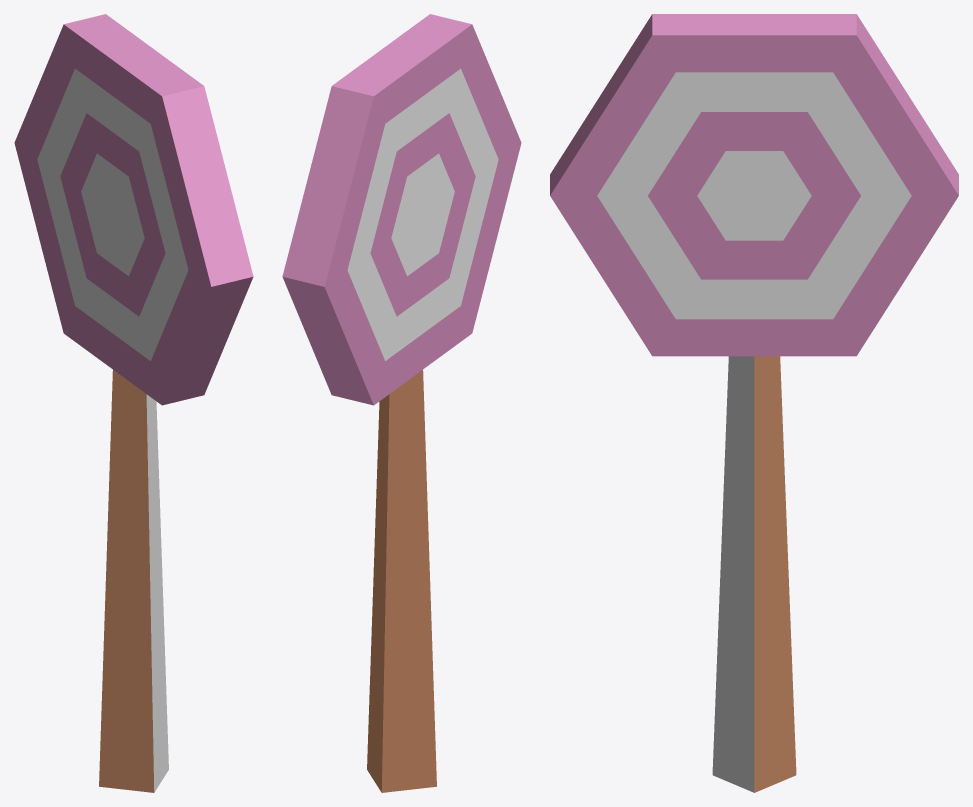
File: lollypop.obj
The picture shows the model from 3 angles, left to right: view 1: azimuth 30°, elevation 25°; view 2: azimuth 150°, elevation 25°; view 3: azimuth 270°, elevation 25°; orthographic projection. The views are drawn at different scales.
Parts seen in each view (by area): view 1: lollypop; view 2: lollypop; view 3: lollypop.
Boxes of the visible parts, x1,y1,x2,y2 form: lollypop: (14, 14, 253, 792); lollypop: (282, 14, 521, 792); lollypop: (550, 14, 958, 792).
Size of the model in its own units: 0.0385 by 0.3798 by 0.1875.
